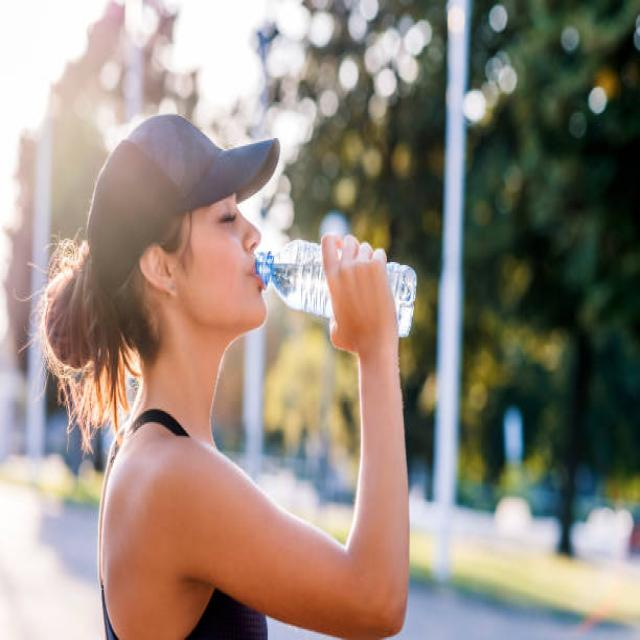Bottle: (256, 240, 332, 318)
